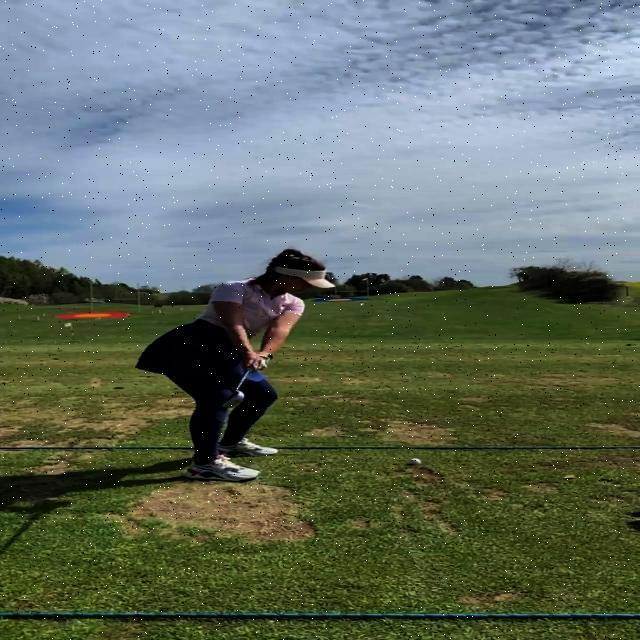ClubHead: (222, 392, 246, 408)
GolfBall: (409, 458, 422, 465)
